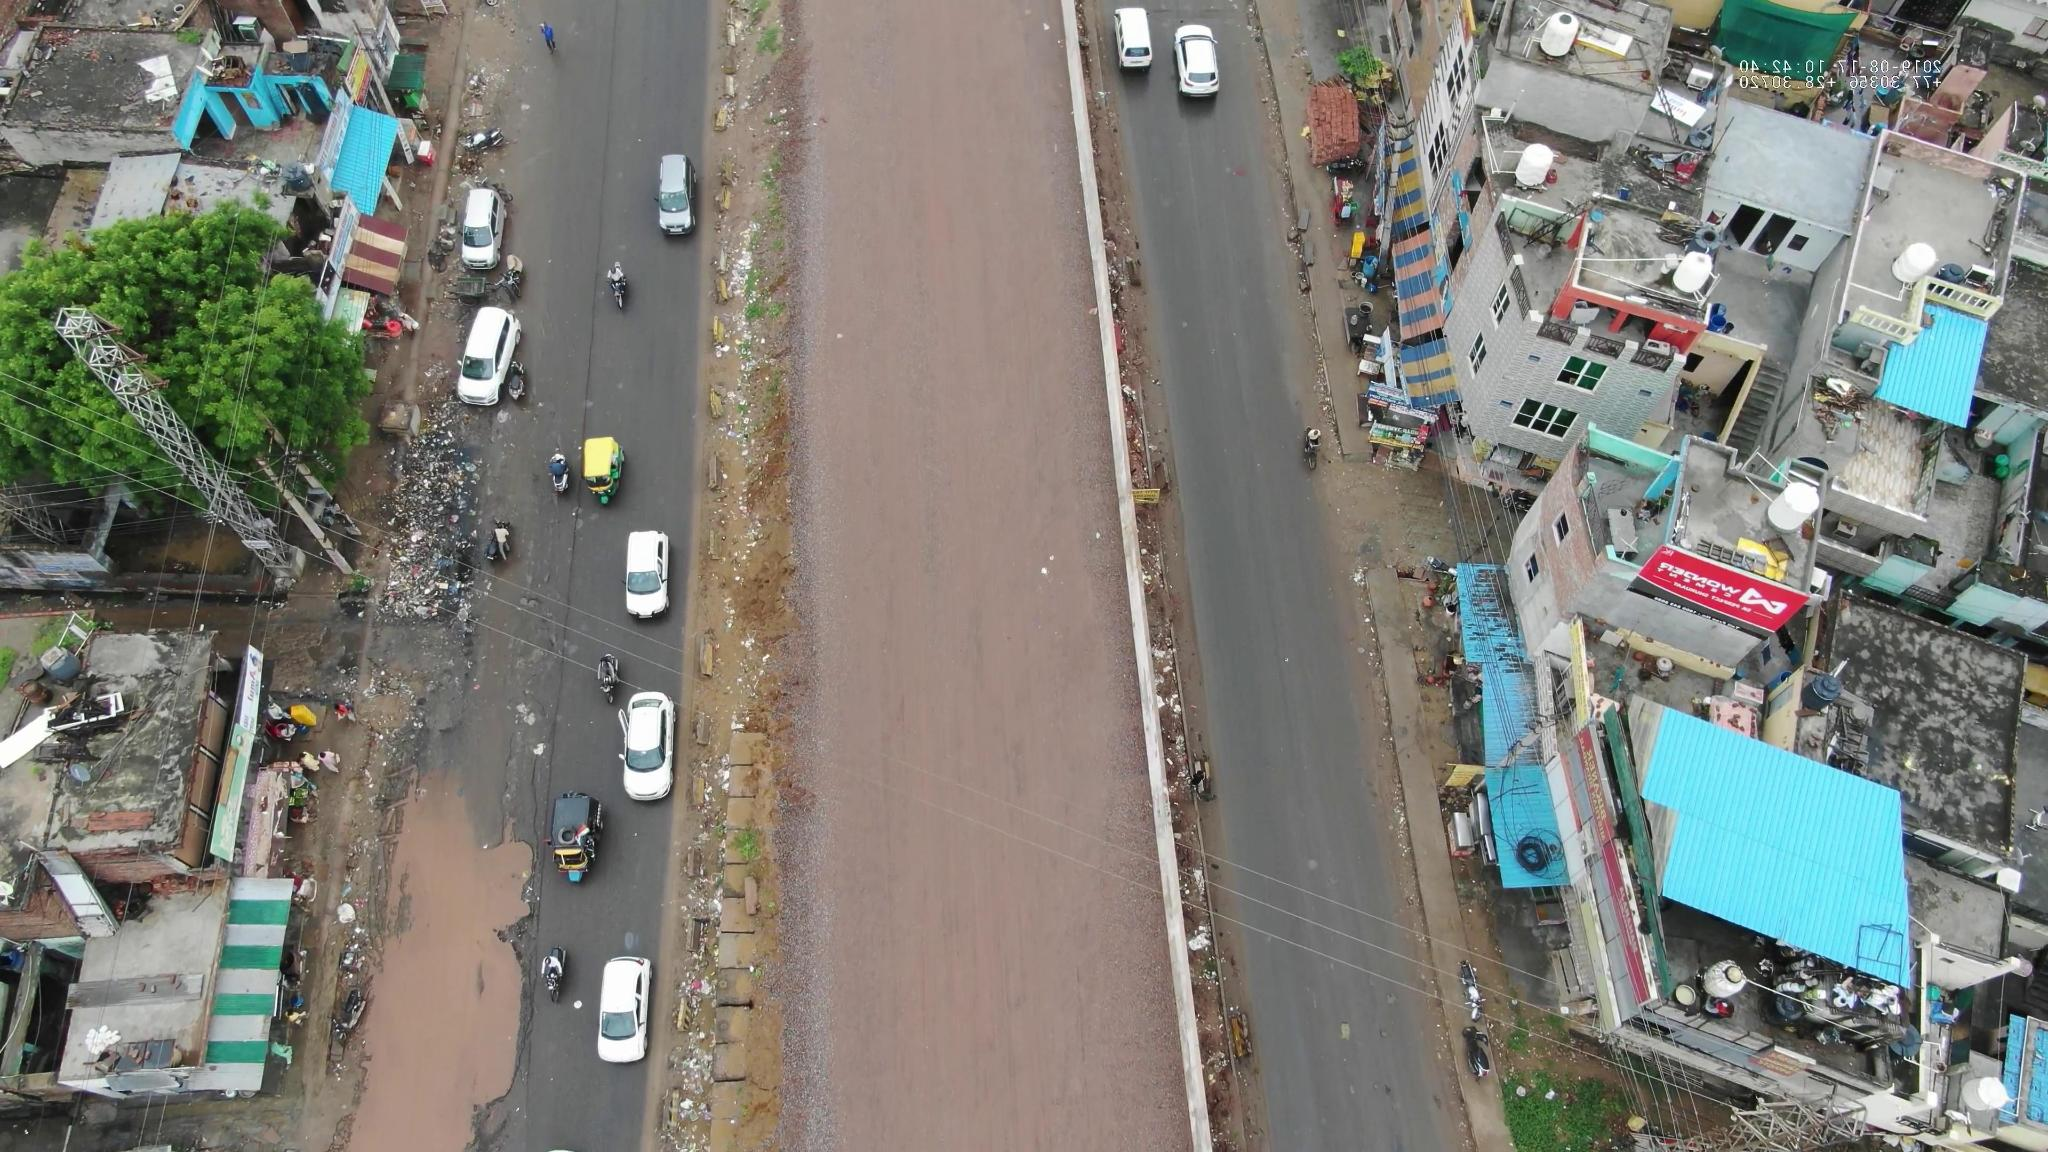Road_side_garbage: (387, 437, 466, 626)
Waterlogging: (376, 803, 542, 1146)
